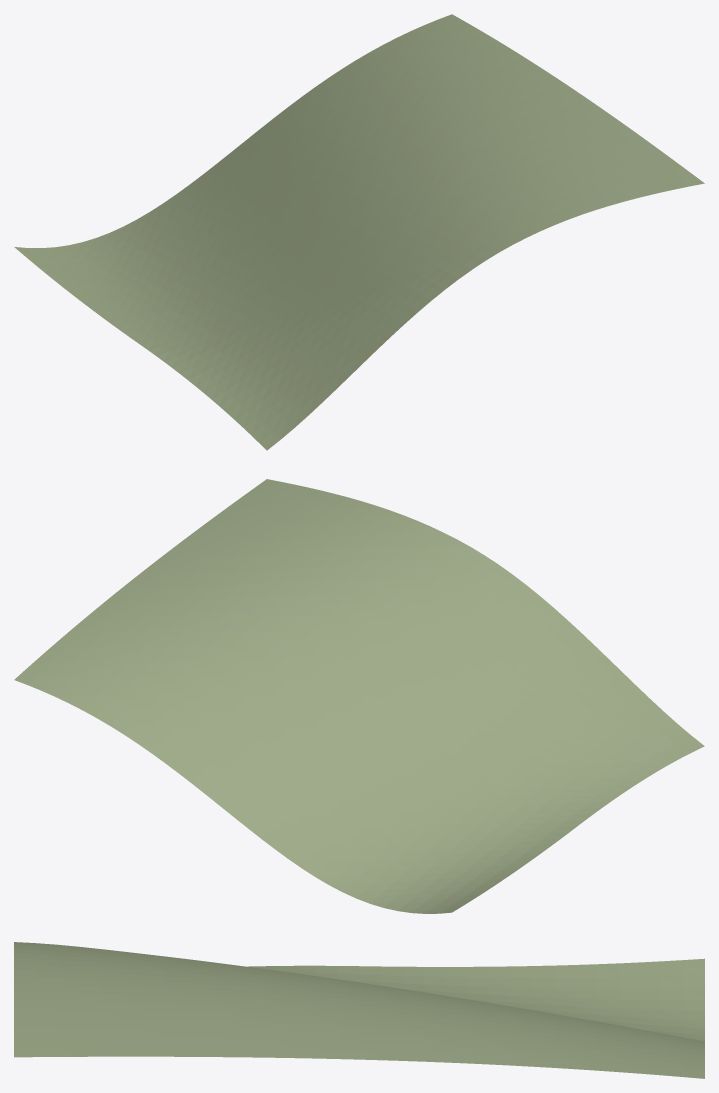
File: expanse-15-7.glb
3 views of the same model, one above another, from view 1: azimuth 30°, elevation 25°; view 2: azimuth 150°, elevation 25°; view 3: azimuth 270°, elevation 25° (orthographic). The views are drawn at different scales.
Visible parts, largest first — view 1: expanse-15-7; view 2: expanse-15-7; view 3: expanse-15-7.
Boxes of the visible parts, x1,y1,x2,y2 form: expanse-15-7: (14, 14, 704, 450); expanse-15-7: (14, 479, 704, 913); expanse-15-7: (14, 942, 704, 1078).
Bounding box in the file's own units: 256 × 90.56 × 256.
